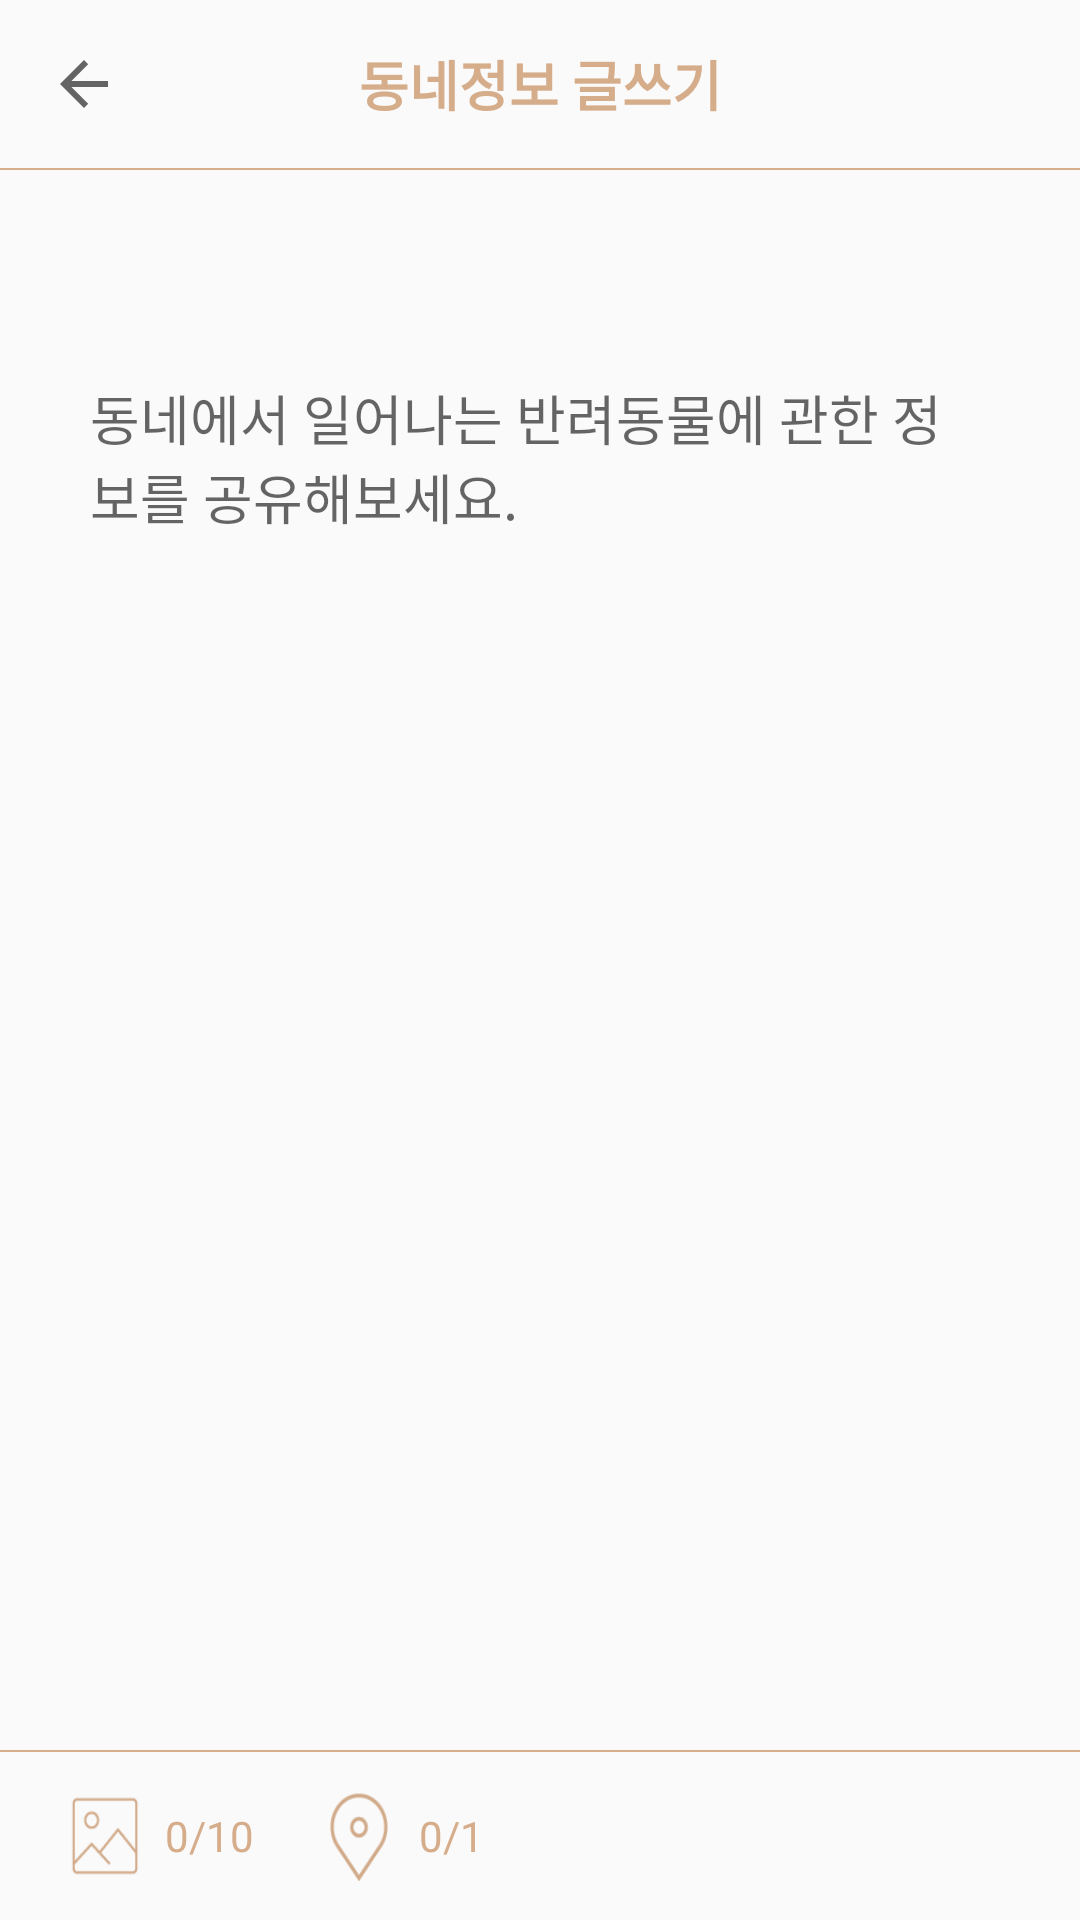

Screen size 1080 × 1920. Icon name, then its box in pixels as (x1, y1, x2, y2):
brown pic: (72, 1798, 138, 1874)
place brown: (330, 1793, 388, 1881)
